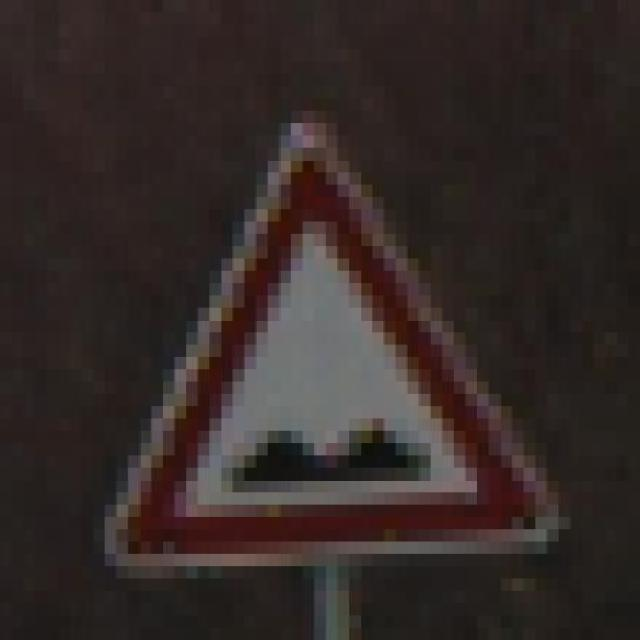Uneven Road: (82, 86, 570, 566)
